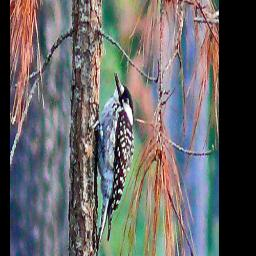Woodpecker: (82, 64, 141, 256)
